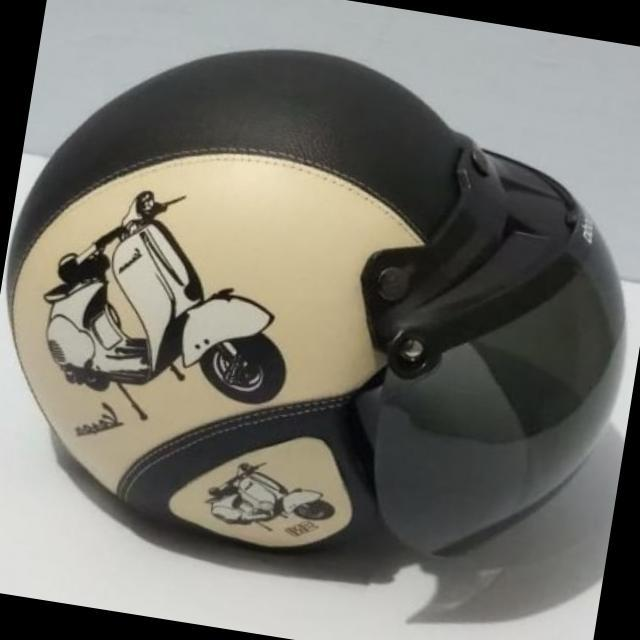Helm: (0, 7, 640, 612)
